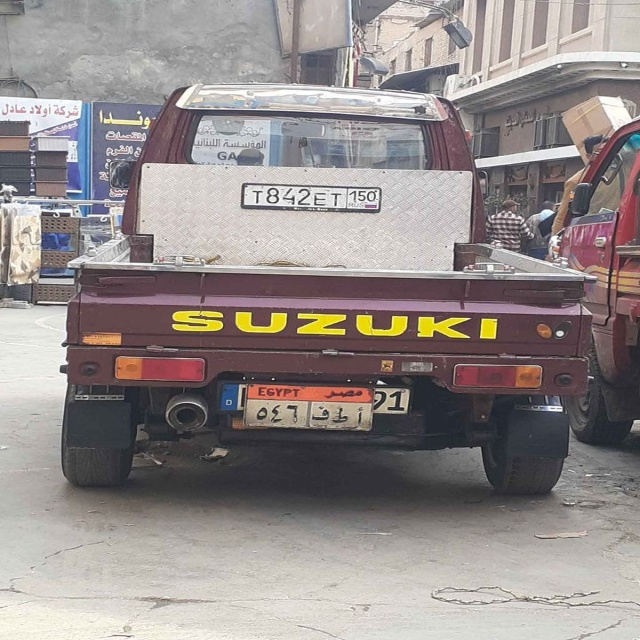License Plate: (243, 383, 376, 433)
